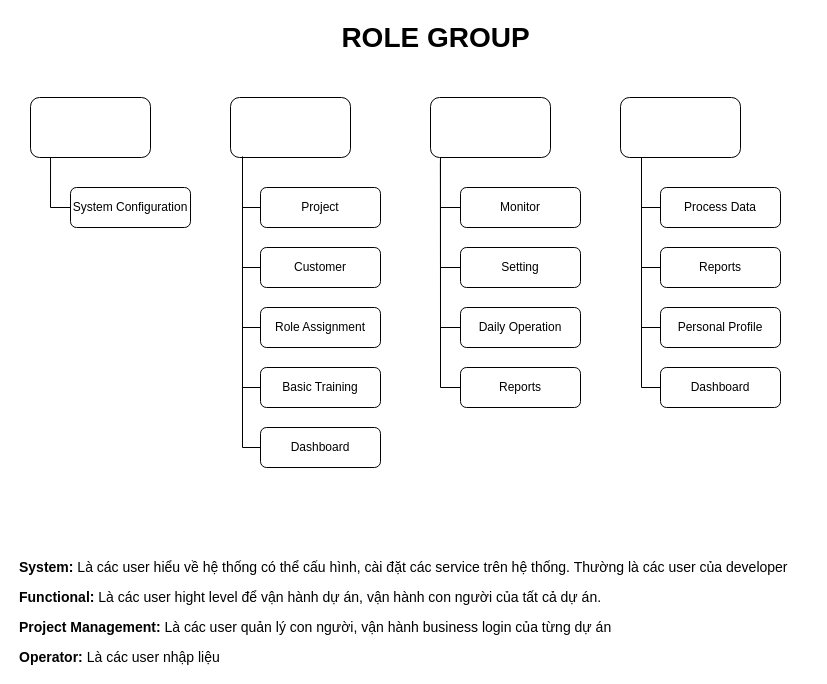
The diagram is 827 pixels wide and 684 high, and some of its shapes have lost their labels. Here are the shapes that lost their labels. From the top down, the centre of each, then its label:
At [90,127]: "System".
At [290,127]: "Functional".
At [490,127]: "Project Management".
At [680,127]: "Operator".
